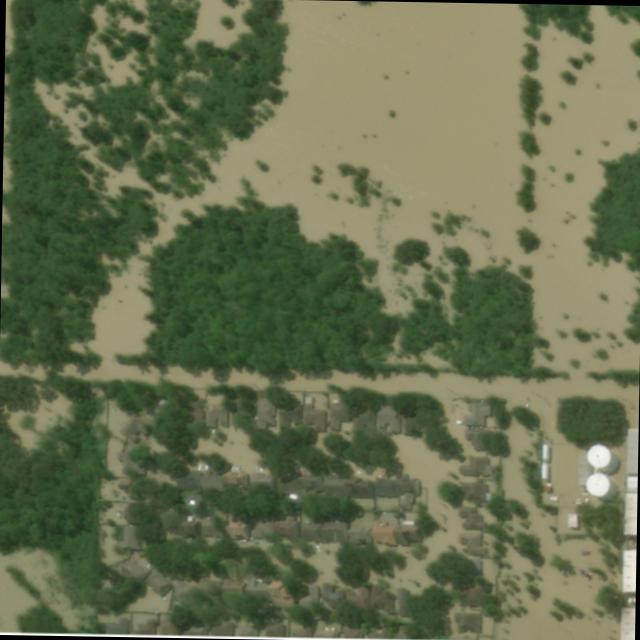damage: (296, 584, 406, 613), (575, 444, 614, 498), (373, 480, 420, 511), (371, 519, 418, 543), (302, 523, 355, 540), (458, 505, 488, 529), (464, 403, 492, 428), (303, 399, 325, 430), (143, 572, 170, 597), (120, 418, 147, 442), (536, 443, 553, 481), (460, 456, 492, 476), (449, 610, 478, 632), (375, 412, 401, 435), (464, 428, 487, 452), (254, 403, 275, 429), (244, 581, 271, 599), (129, 614, 156, 632), (205, 407, 227, 428), (121, 526, 141, 549), (129, 556, 146, 583), (460, 536, 483, 553), (249, 476, 275, 490), (330, 411, 349, 430), (340, 625, 367, 638), (277, 408, 293, 428), (201, 517, 218, 534), (266, 623, 287, 636), (235, 626, 262, 635)
